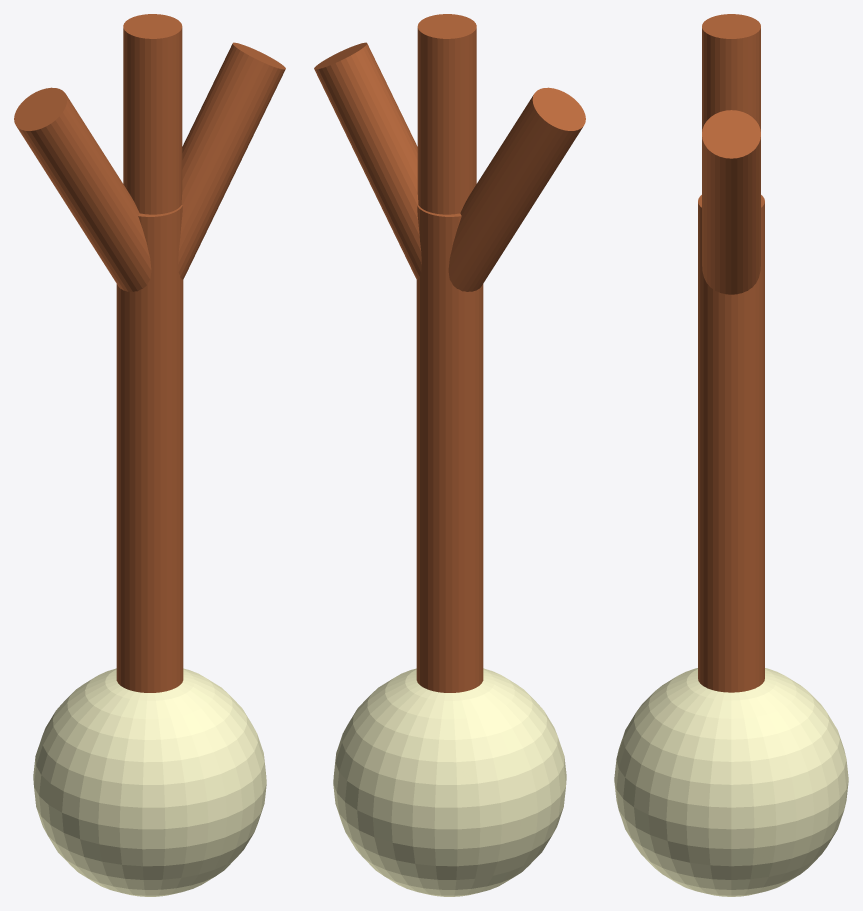
Rendered from SnowArm.fbx.
3 views of the same model, side by side, from view 1: azimuth 30°, elevation 25°; view 2: azimuth 150°, elevation 25°; view 3: azimuth 270°, elevation 25° (orthographic).
Parts seen in each view (by area): view 1: Sphere.001, Cylinder, Cylinder.003, Cylinder.002, Cylinder.001; view 2: Sphere.001, Cylinder, Cylinder.003, Cylinder.002, Cylinder.001; view 3: Sphere.001, Cylinder, Cylinder.001, Cylinder.002.
Part boxes in pixels (left/top/right/bottom): Sphere.001: left=33, top=668, right=266, bottom=896; Cylinder: left=116, top=205, right=183, bottom=692; Cylinder.003: left=14, top=87, right=151, bottom=291; Cylinder.002: left=123, top=14, right=182, bottom=214; Cylinder.001: left=178, top=42, right=285, bottom=279; Sphere.001: left=333, top=668, right=566, bottom=896; Cylinder: left=416, top=205, right=483, bottom=692; Cylinder.003: left=448, top=87, right=585, bottom=291; Cylinder.002: left=417, top=14, right=476, bottom=214; Cylinder.001: left=314, top=42, right=421, bottom=279; Sphere.001: left=614, top=668, right=848, bottom=896; Cylinder: left=698, top=195, right=764, bottom=692; Cylinder.001: left=702, top=110, right=760, bottom=294; Cylinder.002: left=702, top=14, right=760, bottom=131.
Bounding box in the file's own units: 45.58 × 142 × 35.14.
